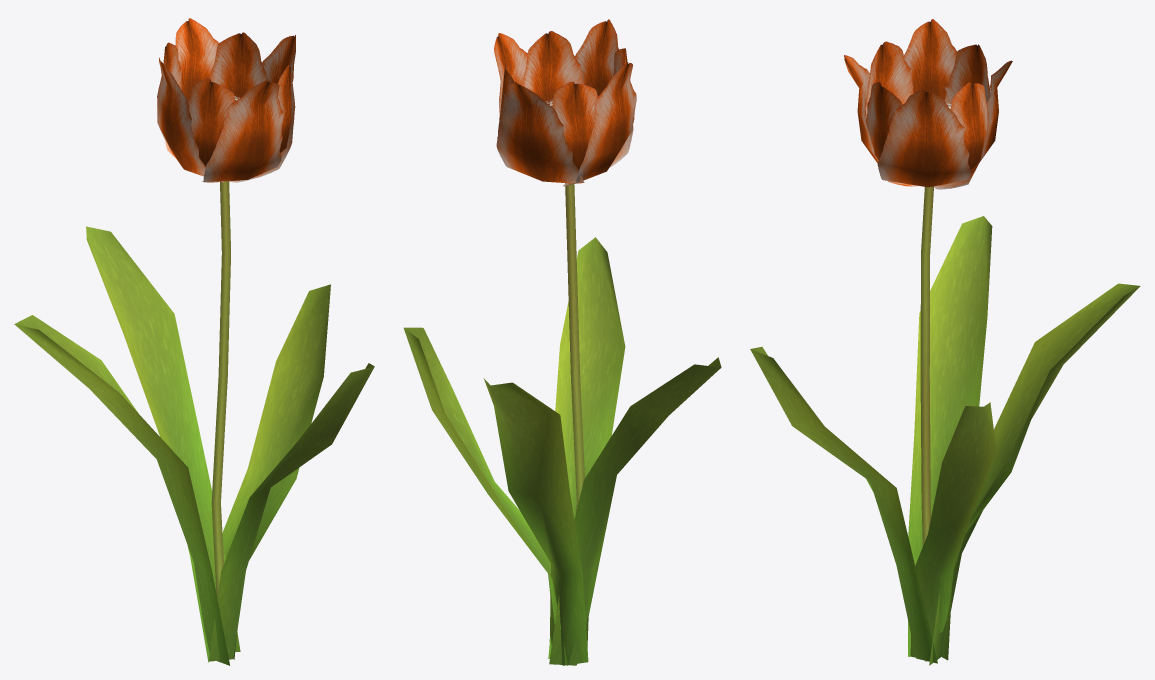
File: m_flower22.fbx
3 views of the same model, side by side, from view 1: azimuth 30°, elevation 25°; view 2: azimuth 150°, elevation 25°; view 3: azimuth 270°, elevation 25° (orthographic).
Parts seen in each view (by area): view 1: mesh_flower22; view 2: mesh_flower22; view 3: mesh_flower22.
Boxes of the visible parts, x1,y1,x2,y2 form: mesh_flower22: [14, 18, 374, 665]; mesh_flower22: [403, 19, 721, 665]; mesh_flower22: [750, 19, 1140, 665].
Bounding box in the file's own units: 0.2255 × 0.4208 × 0.2424.
Materials: 1 (1 with a texture image).
